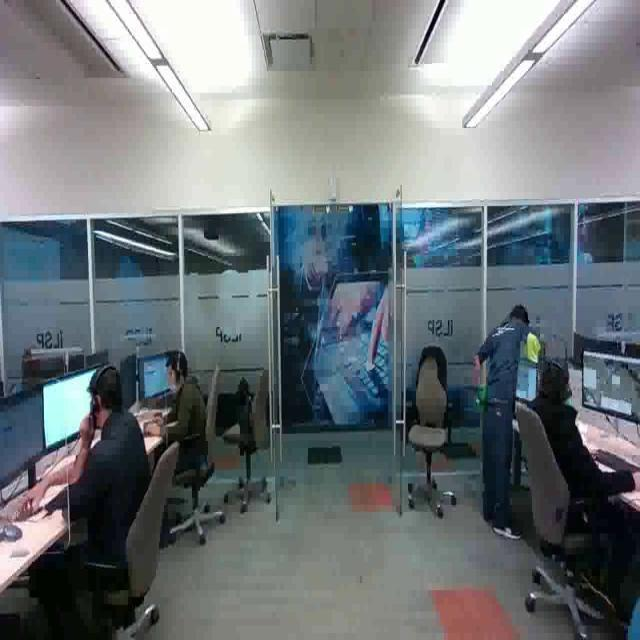hairnet: (166, 367, 181, 398)
